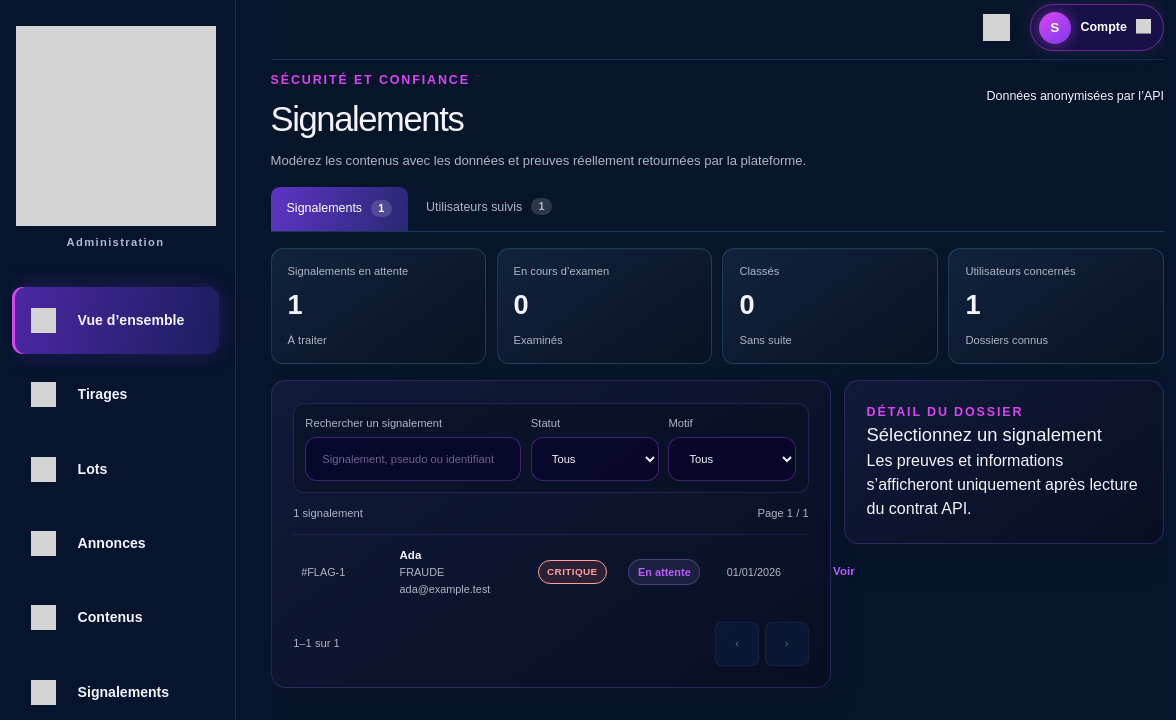
Test case: affiche l’e-mail contractuel dans la file et le détail de modération
expect the text "ada@example.test" is shown once: met, box x1=400 y1=583 x2=490 y2=595
Click the button "FRAUDE".
click(551, 572)  # box x1=293 y1=534 x2=809 y2=609
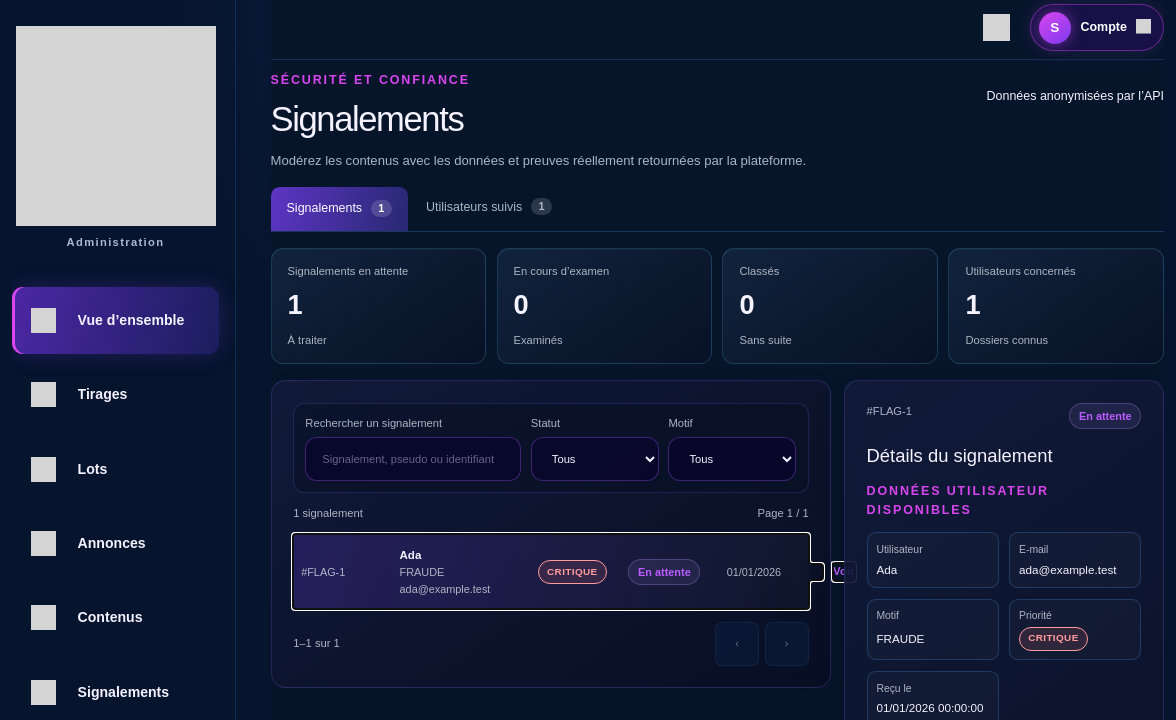
expect the text "ada@example.test" is shown 2 times: met, box x1=400 y1=583 x2=490 y2=595; x1=1019 y1=561 x2=1132 y2=578
